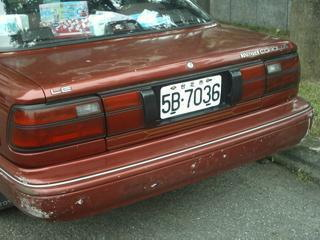plate: (159, 81, 222, 117)
